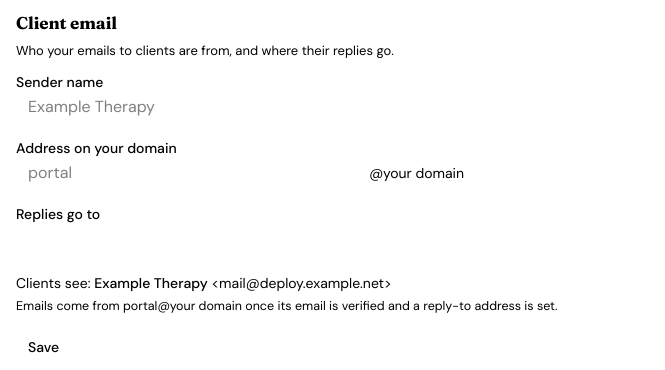
Test: ClientEmailSenderCard › while no domain can send, a typed reply-to says it switches over once verified
The image size is (665, 370).
In the field labelled "Replies go to": point(240, 239) [16,221,464,257], type "frontdesk@example.com"
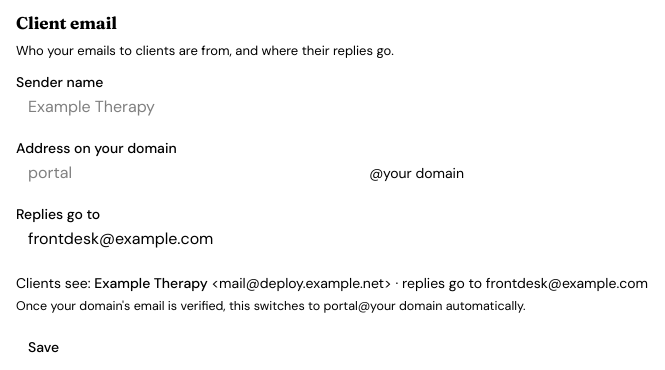
Check: the text with test id "client-email-pending-note" shows "Once your domain's email is verified, this switches to portal@your domain automatically.", box [16,298,526,314]
